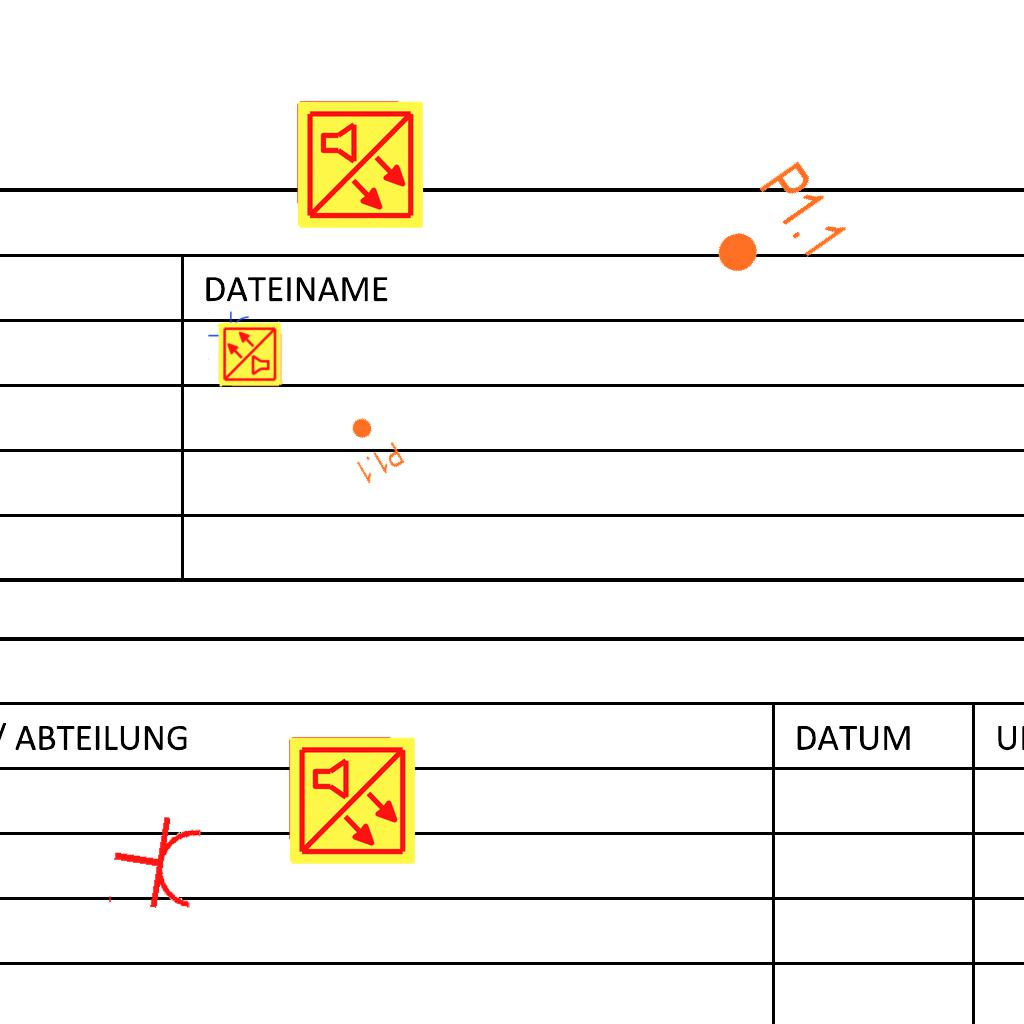Downlight_LED_Einbauleuchten_Flur: (694, 156, 853, 306), (335, 407, 407, 487)
OKW_Multisensormelder_(Kombination_optischer_Rauch-Kahlenmonoxid_Waerme-Melder): (294, 99, 426, 231), (286, 735, 418, 867), (216, 320, 284, 388)
Schukosteckdose_einfach: (104, 807, 207, 921), (208, 311, 251, 361)
